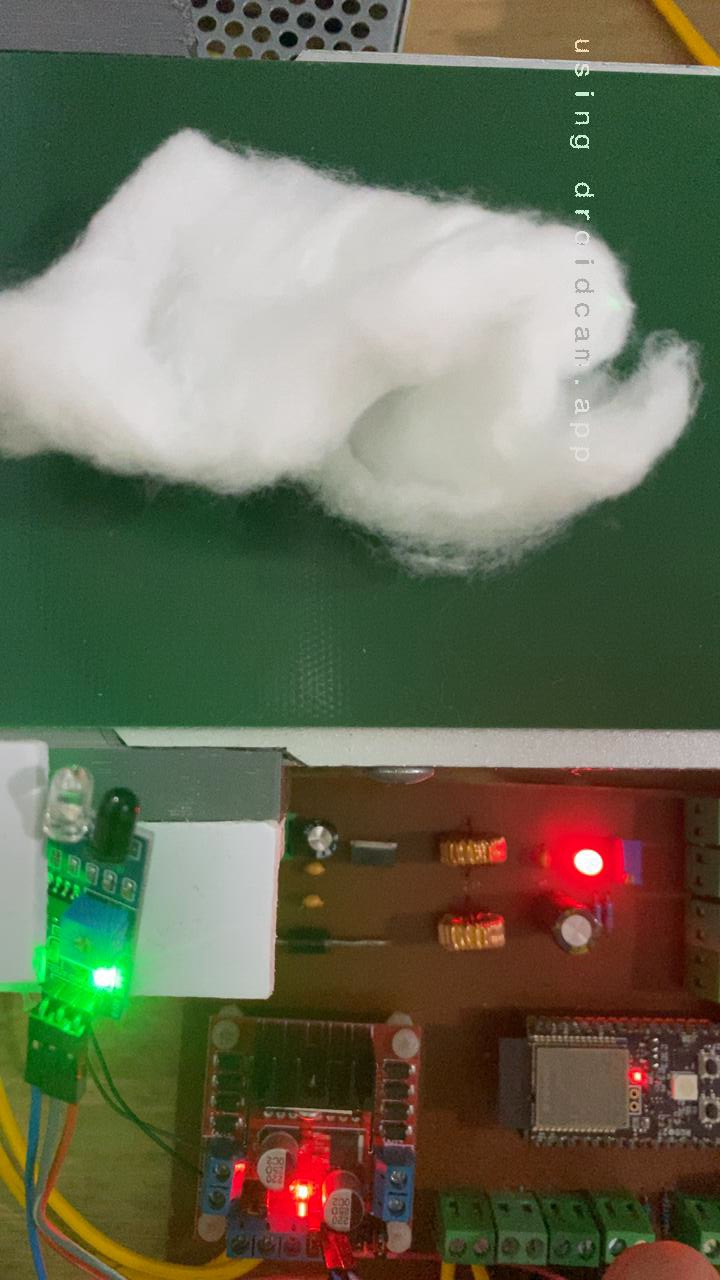cotton: (0, 121, 712, 578)
